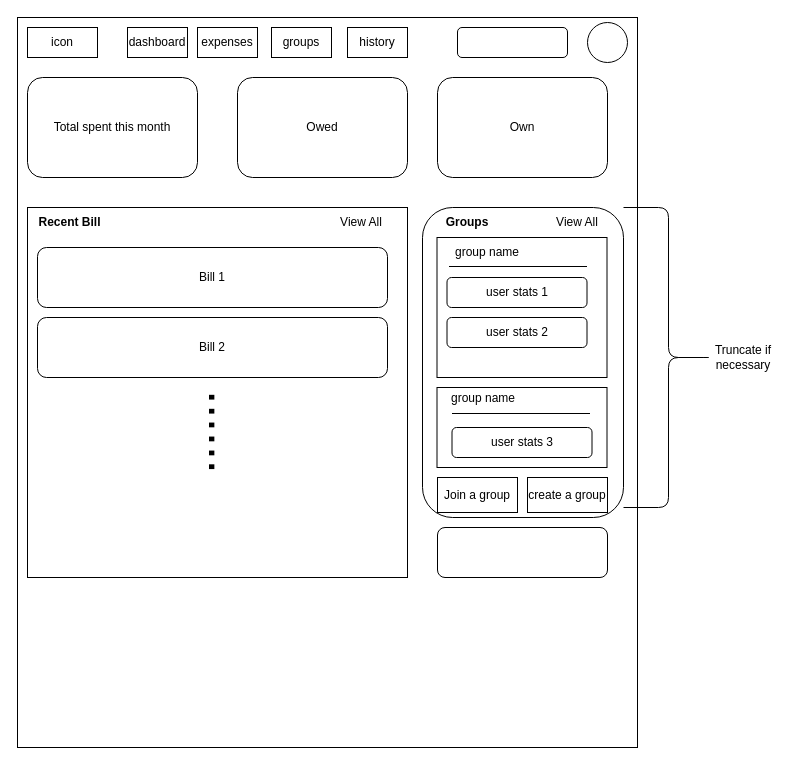
Image size: 791x765. Some labels were removed from this diagram. The centre of each missing label's shape, as x and y in pixels:
"profile" belongs at point (607, 42).
"quick use functions" belongs at point (512, 42).
"Upload receipt" belongs at point (522, 552).
